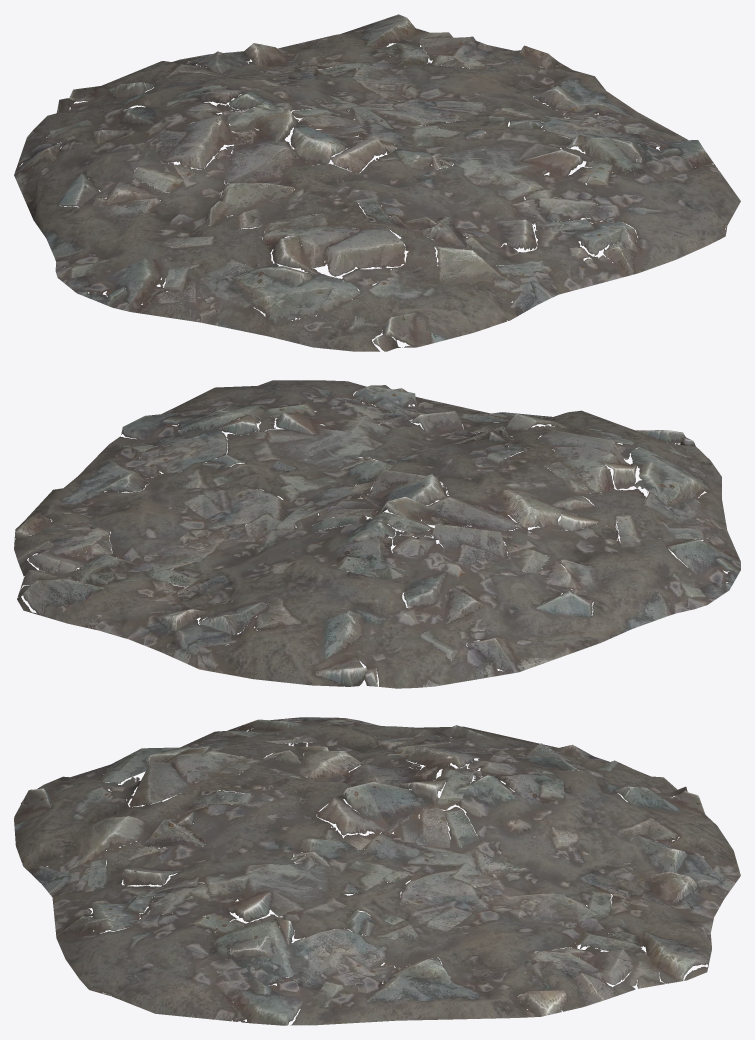
3 views of the same model, one above another, from view 1: azimuth 30°, elevation 25°; view 2: azimuth 150°, elevation 25°; view 3: azimuth 270°, elevation 25° (orthographic). The views are drawn at different scales.
Visible parts, largest first — view 1: SM_Vault_Debris_01_V2_LOD0; view 2: SM_Vault_Debris_01_V2_LOD0; view 3: SM_Vault_Debris_01_V2_LOD0.
Boxes of the visible parts, x1,y1,x2,y2 form: SM_Vault_Debris_01_V2_LOD0: (14,14,740,351); SM_Vault_Debris_01_V2_LOD0: (14,380,740,688); SM_Vault_Debris_01_V2_LOD0: (14,717,740,1025).
Bounding box in the file's own units: 4.44 × 0.4823 × 4.42.
1 material, 1 textured.
